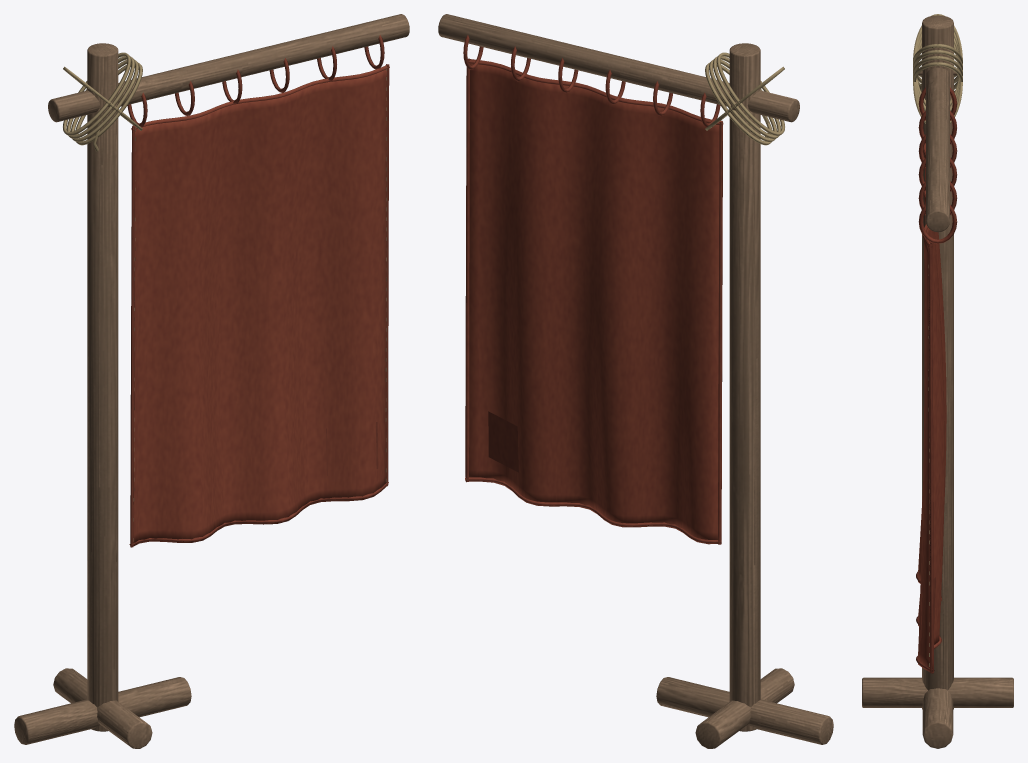
Rendered from CampStandard.fbx.
3 renders of one model, left to right at view 1: azimuth 30°, elevation 25°; view 2: azimuth 150°, elevation 25°; view 3: azimuth 270°, elevation 25°, orthographic.
Parts seen in each view (by area): view 1: CampStandard; view 2: CampStandard; view 3: CampStandard.
Part boxes in pixels (box(x1,y1,x2,y2)): CampStandard: box(14, 14, 409, 748); CampStandard: box(438, 14, 833, 748); CampStandard: box(862, 14, 1013, 748).
Size of the model in its own units: 178 by 300 by 60.
Materials: 1 (1 with a texture image).
